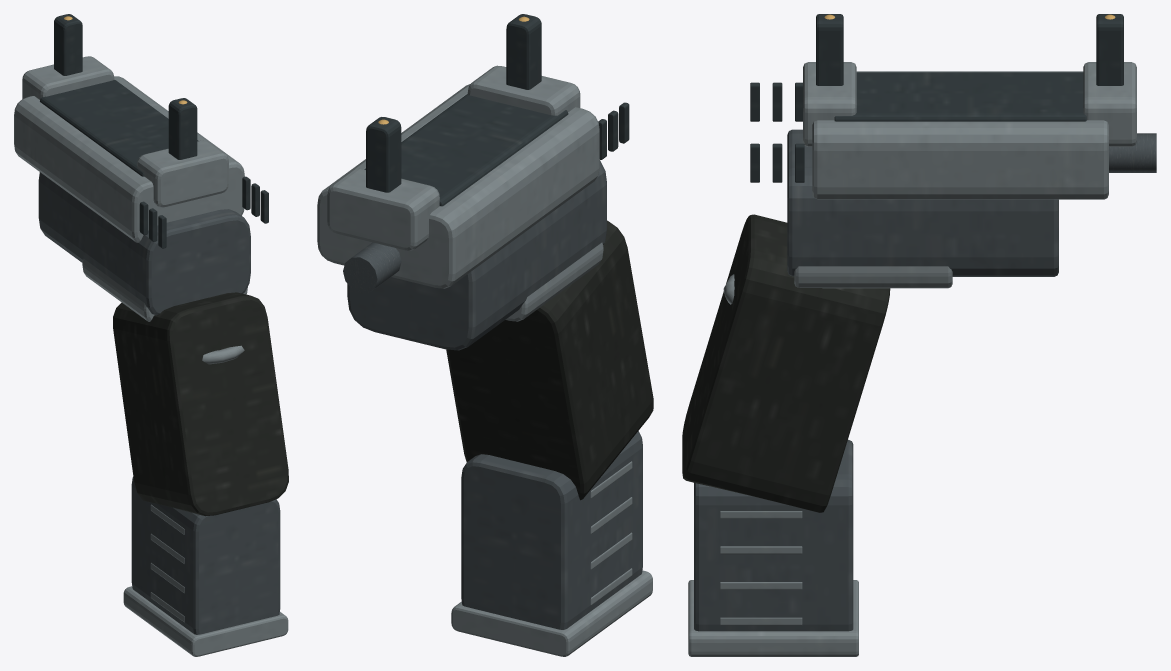
File: pistol.glb
The picture shows the model from 3 angles, left to right: view 1: azimuth 30°, elevation 25°; view 2: azimuth 150°, elevation 25°; view 3: azimuth 270°, elevation 25°; orthographic projection. The views are drawn at different scales.
Parts seen in each view (by area): view 1: first-person-pistol; view 2: first-person-pistol; view 3: first-person-pistol.
Part boxes in pixels (<box>): first-person-pistol: <box>14,14,288,656</box>; first-person-pistol: <box>317,14,653,656</box>; first-person-pistol: <box>682,14,1156,656</box>.
Size of the model in its own units: 0.255 by 1.09 by 0.7621.
Materials: 5 (4 with a texture image).
